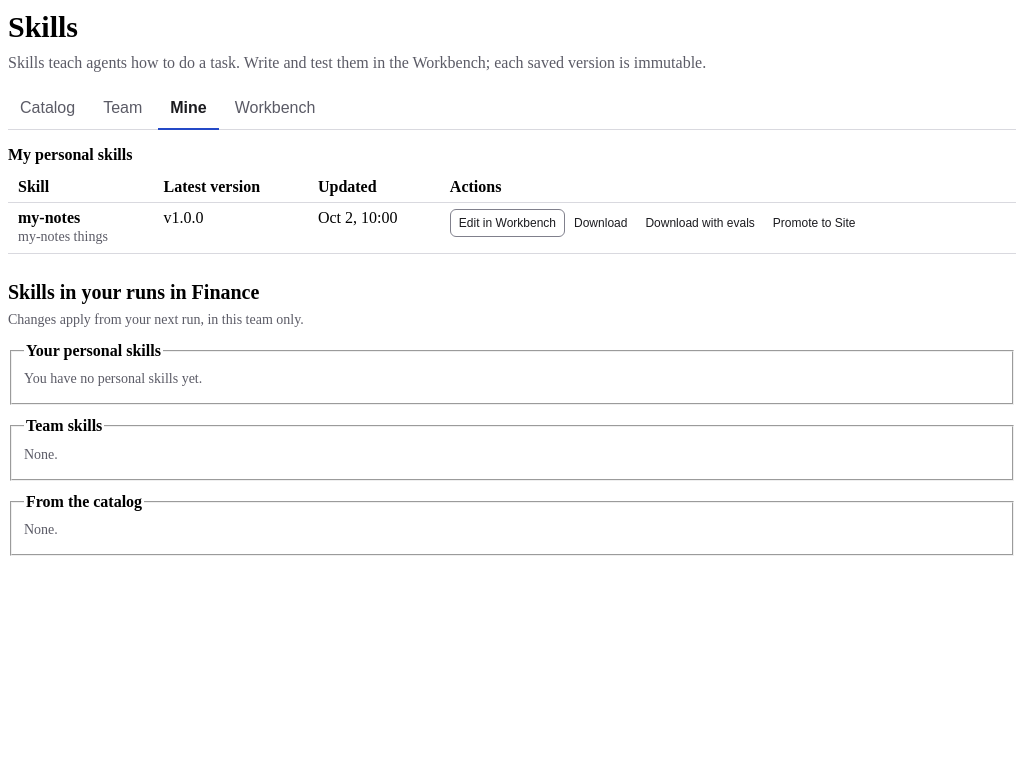
Skills page › shows my personal skills and choices on Mine, and the Catalog tab (KOBE-336)
Expected: the column heading "my-notes" is shown, [18,208,80,226]
Click the tab "Catalog".
click(48, 108)  # box [8,88,87,130]
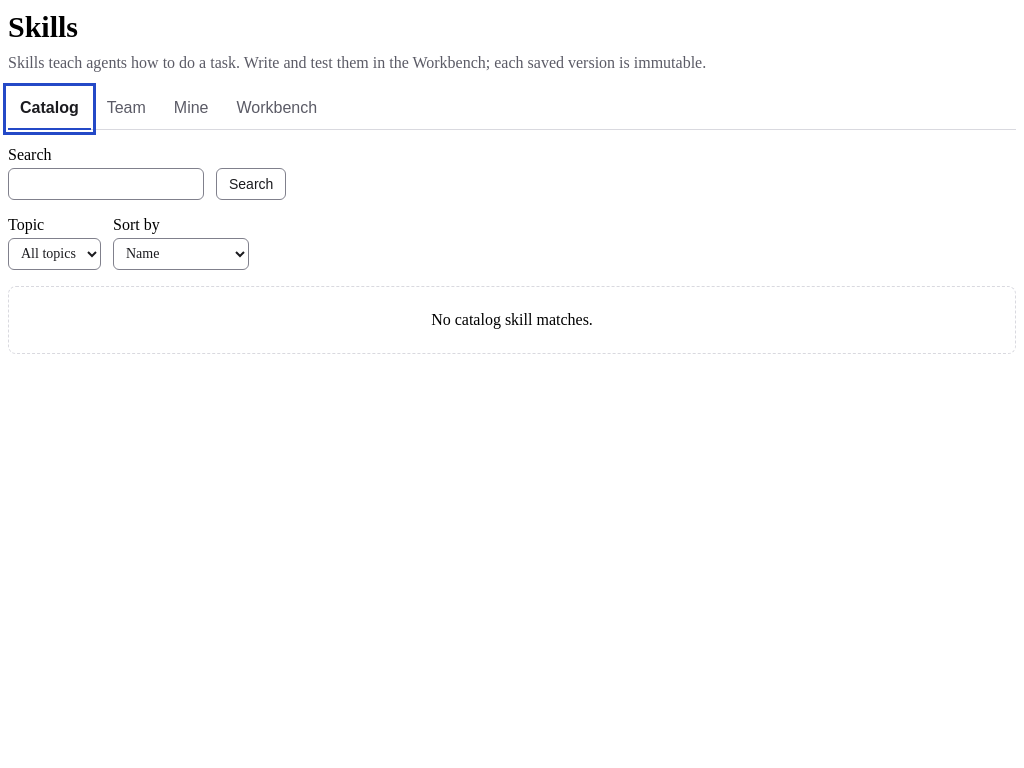
Result: the text "No catalog skill matches." is shown at [431,310,593,328]
